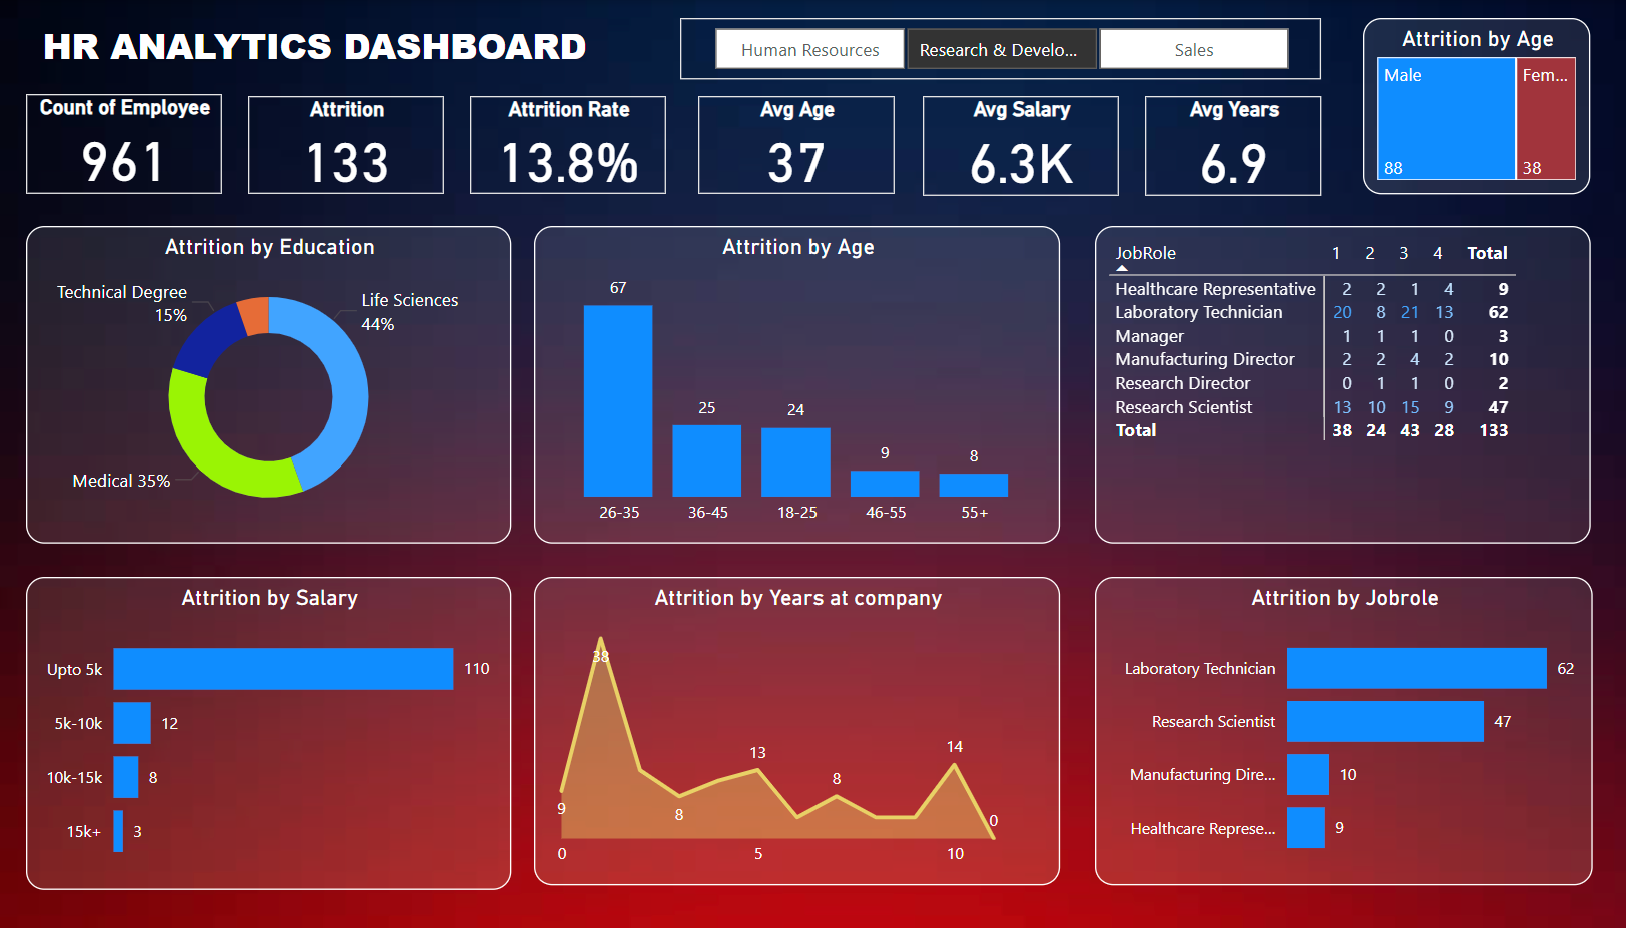

Layout of this report page (visuals, bound fields, positions):
{"tool":"powerbi","page":{"name":"Page 1","canvas":[1280,720],"ordinal":0},"visuals":[{"type":"card","title":"Count of Employee","fields":{"Values":["CountNonNull(HR_Analytics.EmpID)"]},"box":[22.8,71.7,149.8,76.5],"z":0},{"type":"card","title":"Attrition","fields":{"Values":["Sum(HR_Analytics.AttritionCount)"]},"box":[192.2,73.3,149.8,74.9],"z":1000},{"type":"card","title":"Attrition Rate","fields":{"Values":["HR_Analytics.AttritionRate"]},"box":[363.2,73.3,149.8,74.9],"z":2000},{"type":"card","title":"Avg Age","fields":{"Values":["Avg(HR_Analytics.Age)"]},"box":[537.4,73.3,149.8,74.9],"z":3000},{"type":"card","title":"Avg Salary","fields":{"Values":["Avg(HR_Analytics.MonthlyIncome)"]},"box":[708.4,73.3,149.8,76.5],"z":4000},{"type":"card","title":"Avg Years","fields":{"Values":["Avg(HR_Analytics.YearsAtCompany)"]},"box":[879.4,73.3,135.2,76.5],"z":5000},{"type":"donutChart","title":"Attrition by Education","fields":{"Category":["HR_Analytics.EducationField","HR_Analytics.Education"],"Y":["Sum(HR_Analytics.AttritionCount)"]},"box":[22.8,172.6,371.3,242.6],"z":6000},{"type":"columnChart","title":"Attrition by Age","fields":{"Category":["HR_Analytics.AgeGroup"],"Y":["Sum(HR_Analytics.AttritionCount)"]},"box":[412,172.6,402.2,242.6],"z":7000},{"type":"pivotTable","fields":{"Rows":["HR_Analytics.JobRole"],"Columns":["HR_Analytics.JobSatisfaction"],"Values":["Sum(HR_Analytics.AttritionCount)"]},"box":[840.3,172.6,379.4,242.6],"z":8000},{"type":"barChart","title":"Attrition by Salary","fields":{"Category":["HR_Analytics.SalarySlab"],"Y":["Sum(HR_Analytics.AttritionCount)"]},"box":[22.8,441.3,371.3,239.4],"z":9000},{"type":"barChart","title":"Attrition by Jobrole","fields":{"Category":["HR_Analytics.JobRole"],"Y":["Sum(HR_Analytics.AttritionCount)"]},"box":[840.3,441.3,381.1,236.1],"z":10000},{"type":"areaChart","title":"Attrition by Years at company","fields":{"Category":["HR_Analytics.YearsAtCompany"],"Y":["Sum(HR_Analytics.AttritionCount)"]},"box":[412,441.3,402.2,236.1],"z":11000},{"type":"treemap","title":"Attrition by Age","fields":{"Group":["HR_Analytics.Gender"],"Values":["Sum(HR_Analytics.AttritionCount)"]},"box":[1045.5,13,174.2,135.2],"z":12000},{"type":"slicer","fields":{"Values":["HR_Analytics.Department"]},"box":[524.4,13,490.2,47.2],"z":13000},{"type":"textbox","box":[30.9,11.4,457.6,61.9],"z":14000}]}

Visuals, with their boxes in screenshot pixels (x1, y1, x2, y2), scaled from the page's 1280x720 canvas onto the 1626x928 screenshot:
"Count of Employee" card: [left=29, top=92, right=219, bottom=191]
"Attrition" card: [left=244, top=94, right=434, bottom=191]
"Attrition Rate" card: [left=461, top=94, right=652, bottom=191]
"Avg Age" card: [left=683, top=94, right=873, bottom=191]
"Avg Salary" card: [left=900, top=94, right=1090, bottom=193]
"Avg Years" card: [left=1117, top=94, right=1289, bottom=193]
"Attrition by Education" donutChart: [left=29, top=222, right=501, bottom=535]
"Attrition by Age" columnChart: [left=523, top=222, right=1034, bottom=535]
pivotTable - HR_Analytics.JobRole x HR_Analytics.JobSatisfaction: [left=1067, top=222, right=1549, bottom=535]
"Attrition by Salary" barChart: [left=29, top=569, right=501, bottom=877]
"Attrition by Jobrole" barChart: [left=1067, top=569, right=1552, bottom=873]
"Attrition by Years at company" areaChart: [left=523, top=569, right=1034, bottom=873]
"Attrition by Age" treemap: [left=1328, top=17, right=1549, bottom=191]
slicer - HR_Analytics.Department: [left=666, top=17, right=1289, bottom=78]
textbox: [left=39, top=15, right=621, bottom=94]
